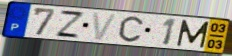1: (160, 18, 178, 47)
7: (33, 7, 58, 37)
C: (118, 15, 145, 43)
M: (175, 19, 211, 49)
V: (91, 11, 119, 42)
Z: (53, 9, 86, 40)
